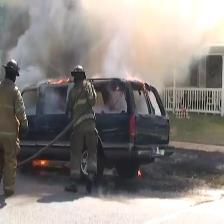smoke: (11, 0, 208, 79), (16, 169, 62, 194), (134, 89, 161, 118), (96, 184, 139, 200), (44, 88, 66, 115), (94, 94, 125, 113)
